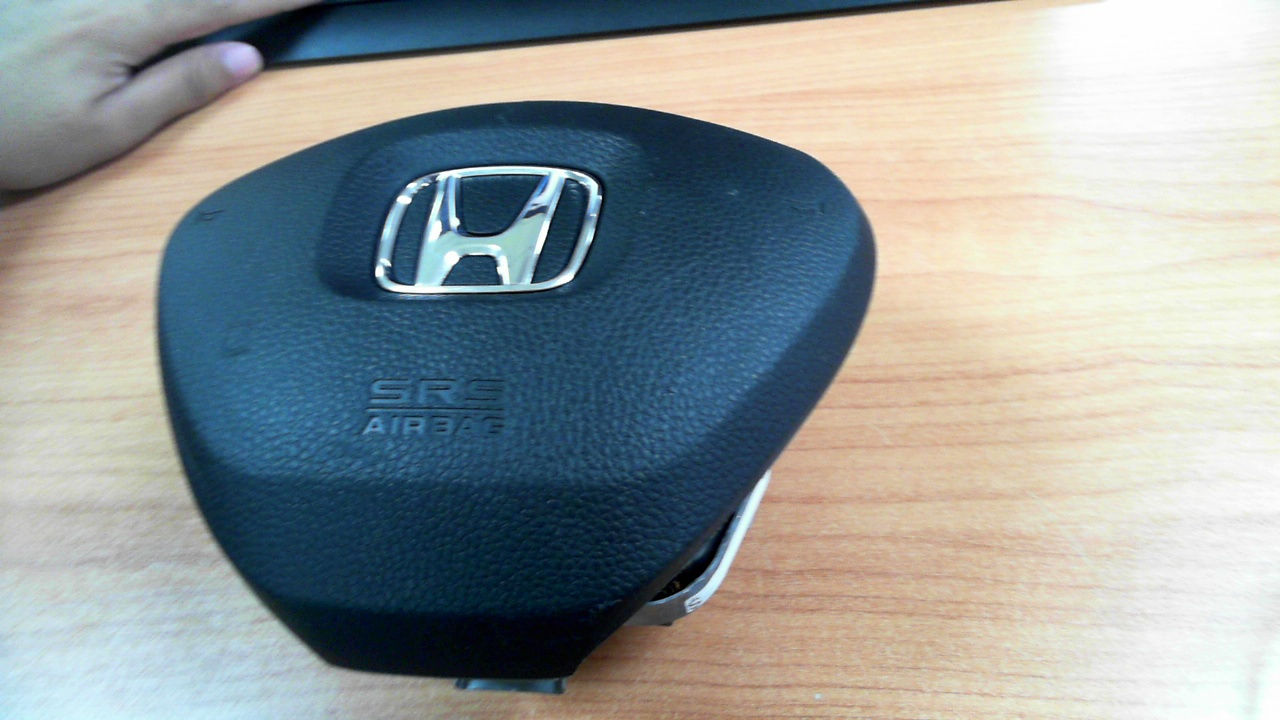Airbag: (155, 101, 877, 695)
Honda: (375, 165, 603, 294)
